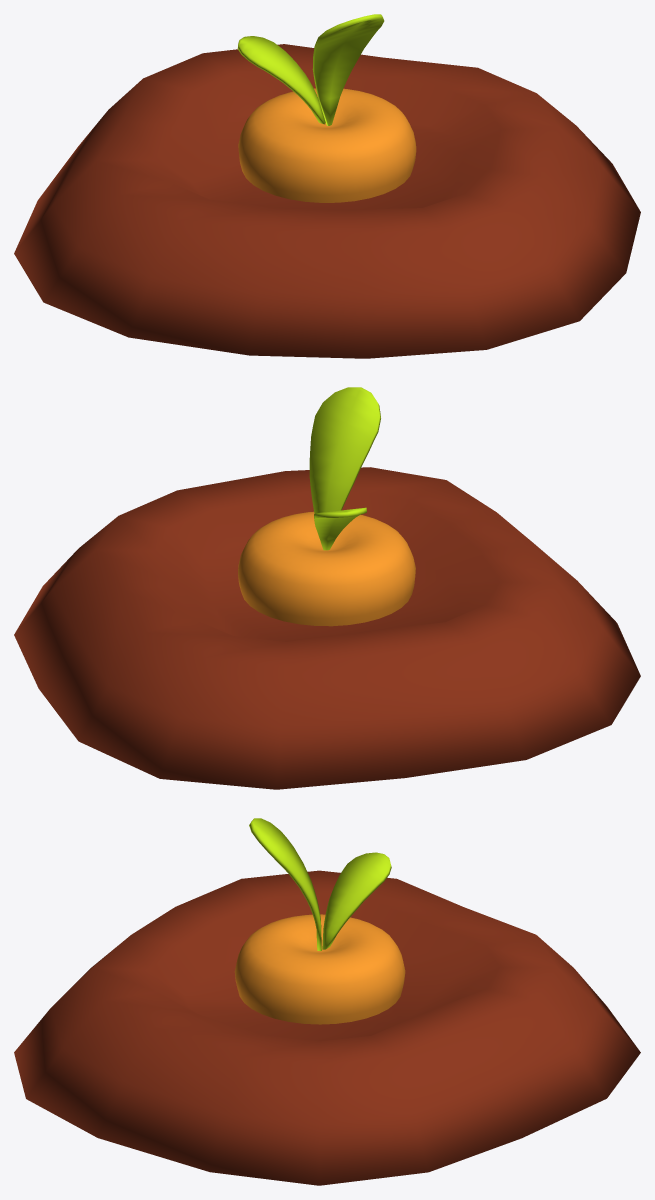
File: Zanahoria_01.fbx
3 views of the same model, one above another, from view 1: azimuth 30°, elevation 25°; view 2: azimuth 150°, elevation 25°; view 3: azimuth 270°, elevation 25° (orthographic). The views are drawn at different scales.
Visible parts, largest first — view 1: Zanahoria_01; view 2: Zanahoria_01; view 3: Zanahoria_01.
Part boxes in pixels (bbox=[...]): Zanahoria_01: bbox=[14, 14, 640, 358]; Zanahoria_01: bbox=[14, 387, 640, 789]; Zanahoria_01: bbox=[14, 818, 640, 1185].
Size of the model in its own units: 414 by 168 by 413.
